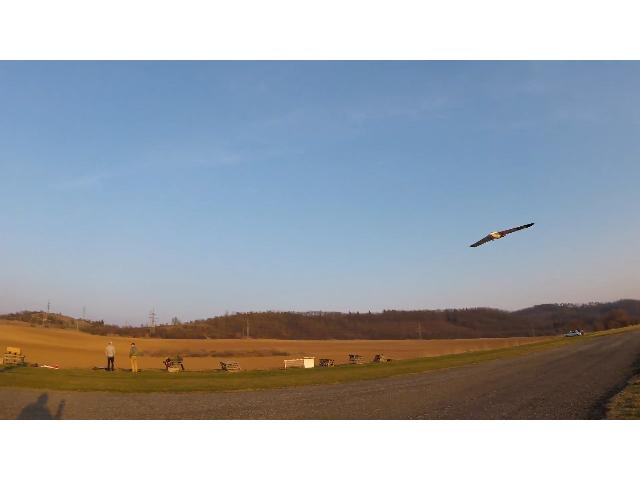Anti-Drone: (471, 224, 533, 248)
